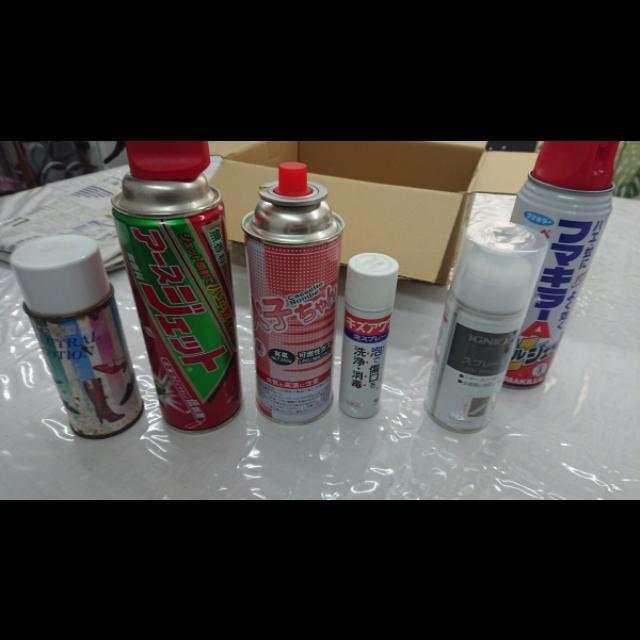chemical_spray_can: (111, 140, 241, 430), (506, 140, 619, 387), (242, 160, 345, 422)
